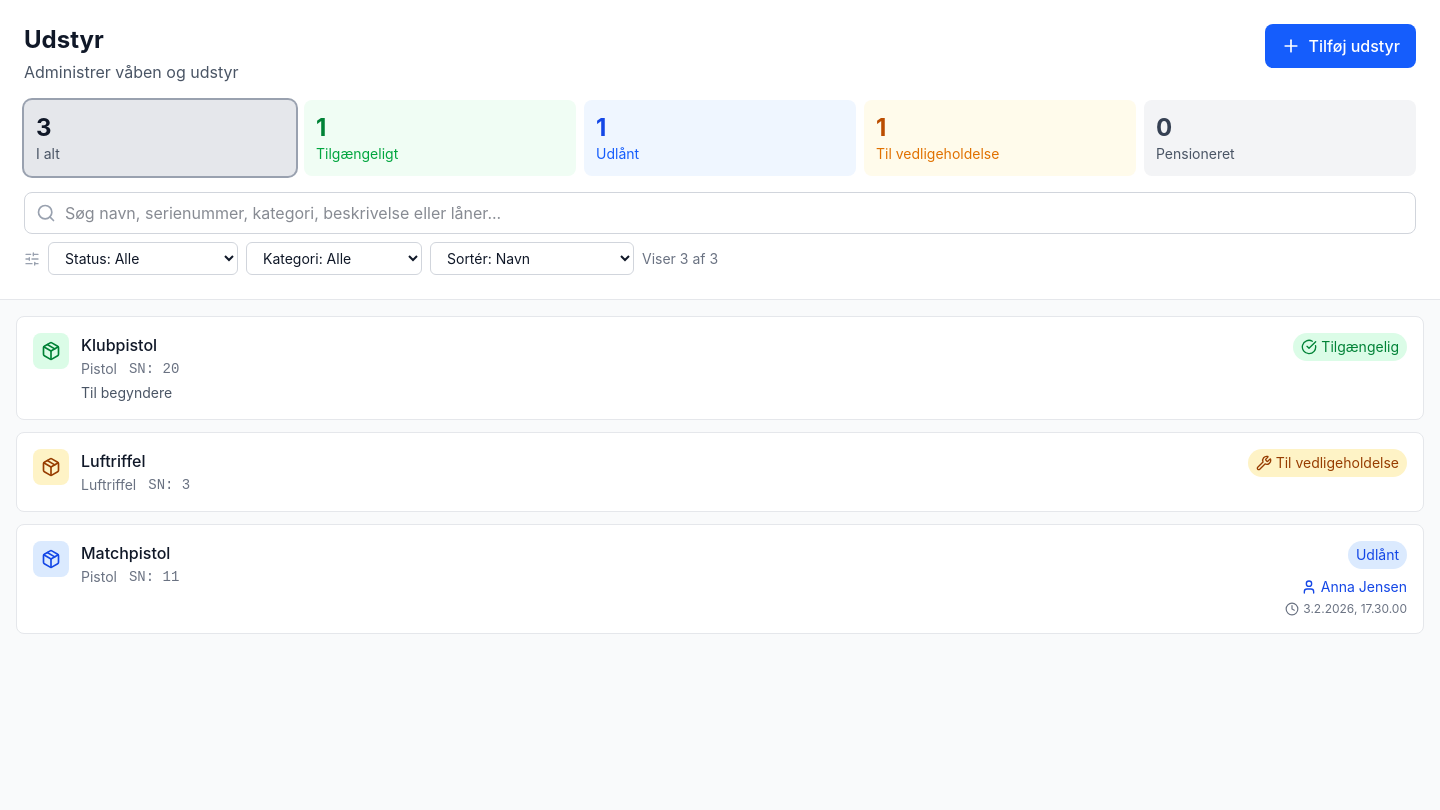
Test case: EquipmentPage › searches descriptions and active borrowers
The width and height of the screenshot is (1440, 810).
Expected: the text "Klubpistol" is shown, [81,335,157,355]
In the search field named "Søg i udstyr": coordinates (720, 213) [24,192,1416,234], type "begyndere"
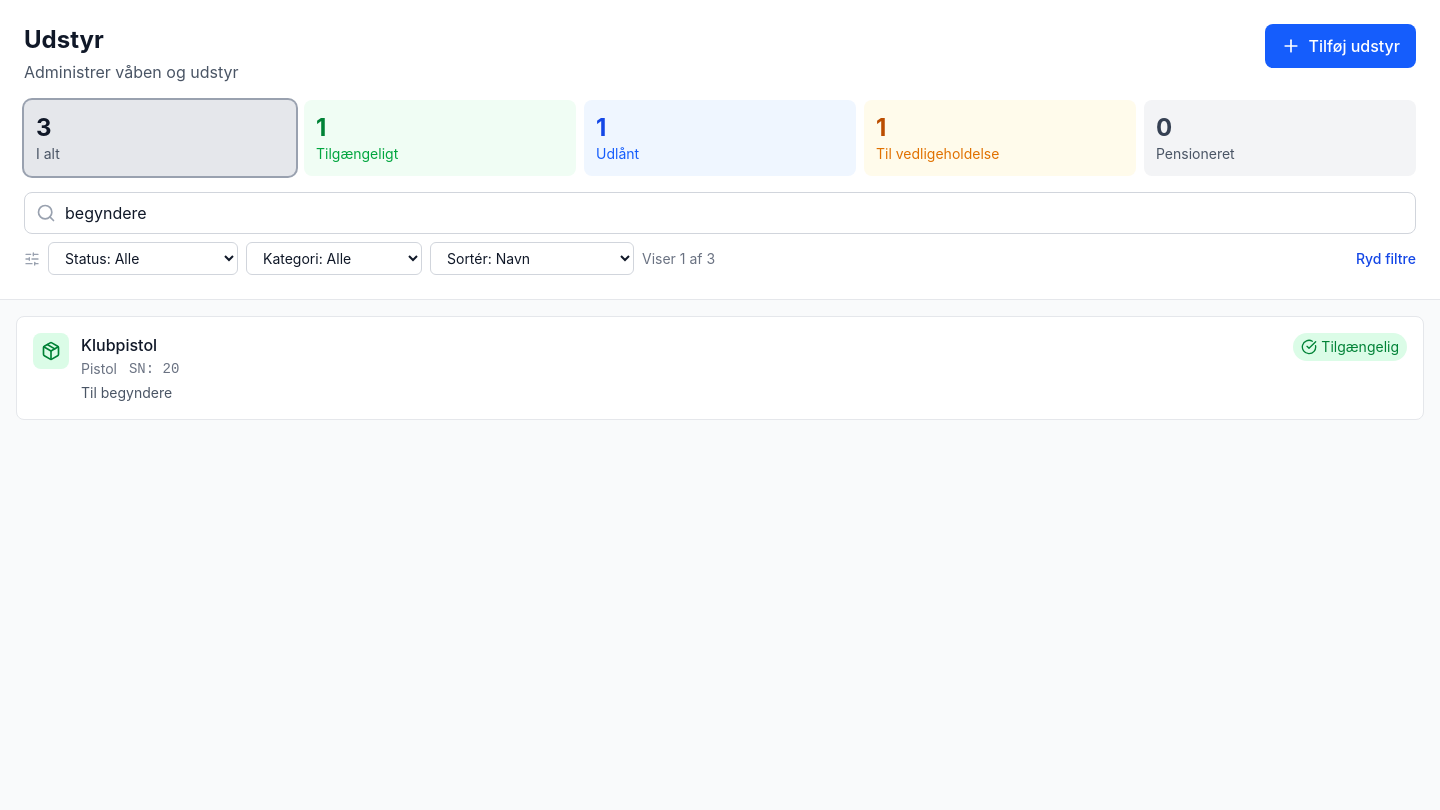
Expected: the text "Klubpistol" is shown, [81,335,157,355]
Result: the button "Matchpistol" is gone
Replace the text in the search field named "Søg i udstyr" with "Anna Jensen": coordinates (720, 213) [24,192,1416,234]
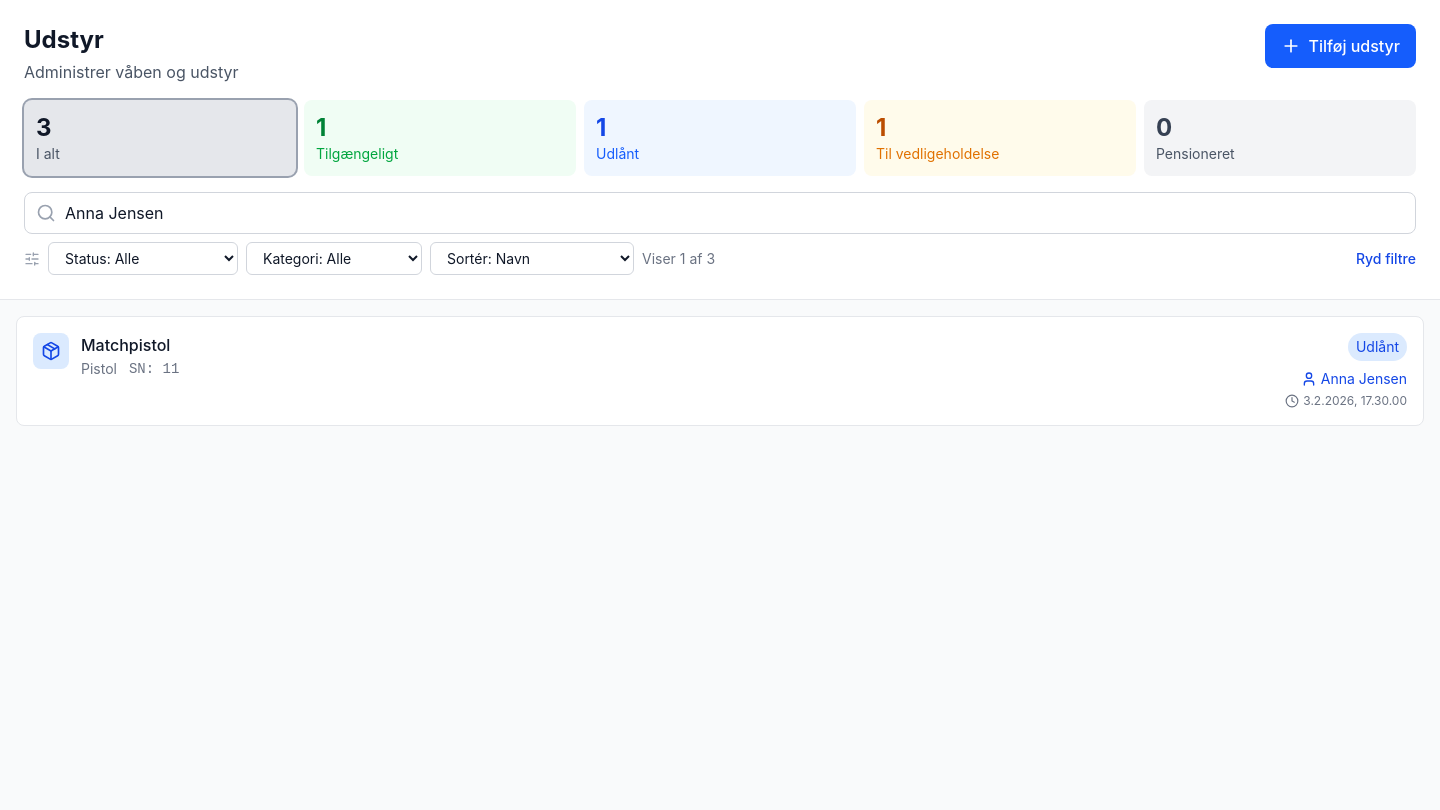
Result: the text "Matchpistol" is shown at [81,333,179,357]
Result: the button "Klubpistol" is gone
